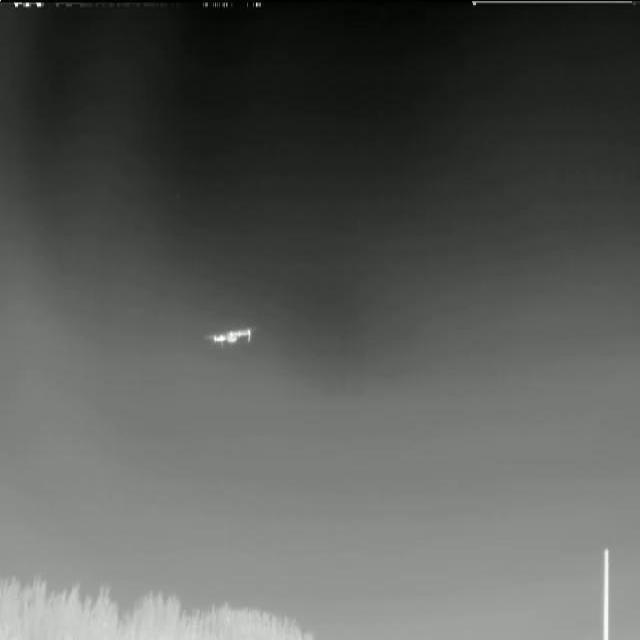DRONE: (196, 316, 262, 354)
